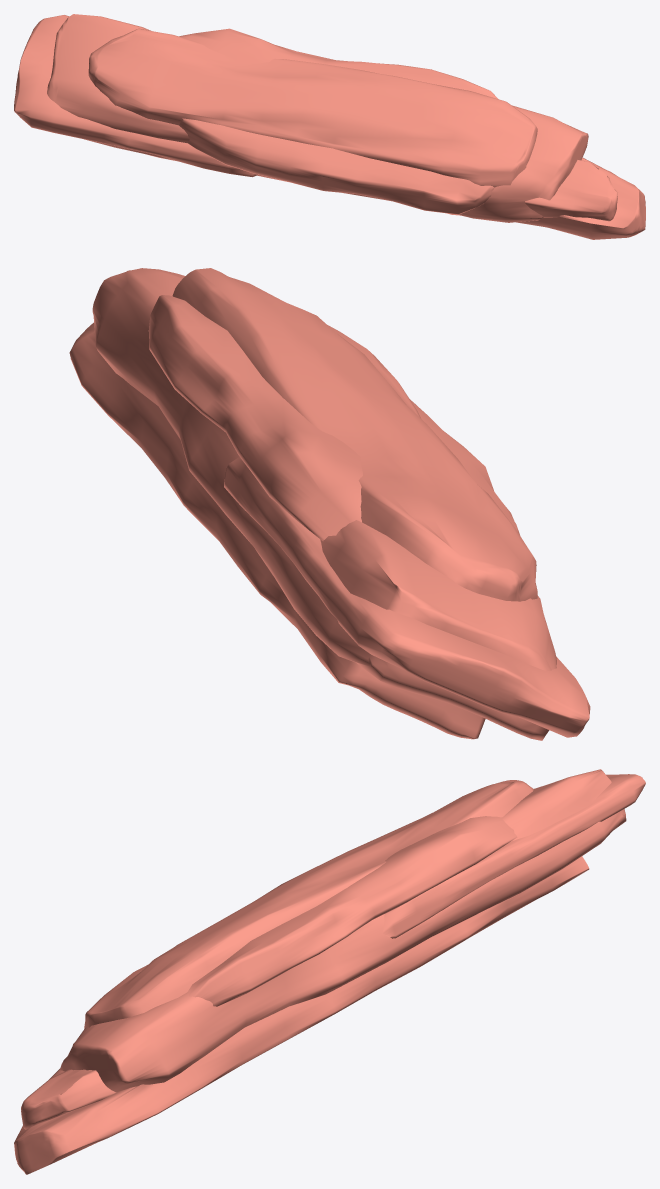
File: LargeRock_low.fbx
The picture shows the model from 3 angles, top to bottom: view 1: azimuth 30°, elevation 25°; view 2: azimuth 150°, elevation 25°; view 3: azimuth 270°, elevation 25°; orthographic projection. The views are drawn at different scales.
Visible parts, largest first — view 1: LargeRock_low; view 2: LargeRock_low; view 3: LargeRock_low.
Part boxes in pixels (box(x1,y1,x2,y2)): LargeRock_low: box(14, 14, 645, 239); LargeRock_low: box(69, 268, 590, 740); LargeRock_low: box(14, 769, 645, 1174).
Size of the model in its own units: 0.7386 by 0.2403 by 0.7028.
